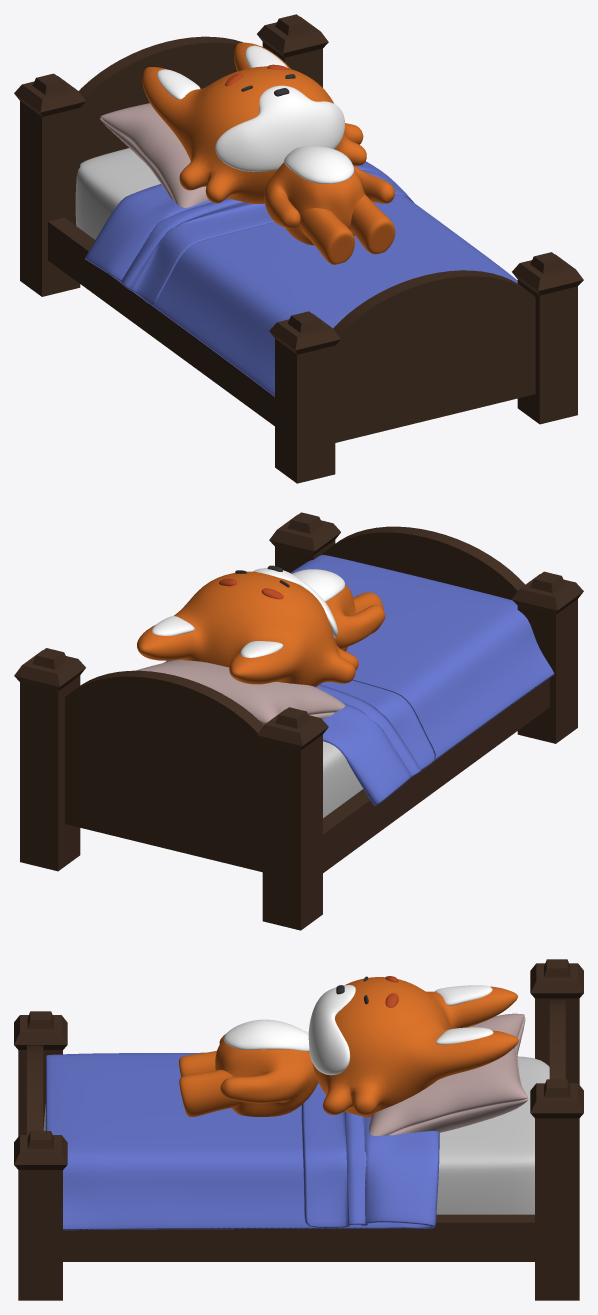
The model's file is bed.glb.
The picture shows the model from 3 angles, top to bottom: view 1: azimuth 30°, elevation 25°; view 2: azimuth 150°, elevation 25°; view 3: azimuth 270°, elevation 25°; orthographic projection.
Parts seen in each view (by area): view 1: Plane, Circle, Tete.001, Cube.001, Cube.003, Tete.002, Cube.002, Circle.001, Plane.001, Cube; view 2: Circle.001, Plane, Cube.003, Tete.001, Cube.001, Cube.002, Circle, Plane.001, Tete.002, Cube; view 3: Plane, Tete.001, Cube.002, Cube.003, Cube.001, Cube, Plane.001, Tete.002, Circle, Circle.001.
Part boxes in pixels (x1,y1,x2,y2): Plane: [85, 161, 517, 396]; Circle: [333, 270, 535, 442]; Tete.001: [142, 42, 395, 264]; Cube.001: [269, 252, 583, 483]; Cube.003: [14, 14, 328, 296]; Tete.002: [157, 45, 354, 183]; Cube.002: [48, 217, 274, 425]; Circle.001: [78, 36, 243, 163]; Plane.001: [100, 103, 208, 207]; Cube: [75, 148, 160, 239]; Circle.001: [65, 670, 263, 872]; Plane: [163, 555, 554, 805]; Cube.003: [14, 648, 328, 930]; Tete.001: [137, 571, 385, 687]; Cube.001: [269, 512, 583, 743]; Cube.002: [323, 678, 549, 872]; Circle: [323, 526, 525, 599]; Plane.001: [136, 659, 345, 724]; Tete.002: [151, 568, 345, 657]; Cube: [323, 741, 363, 817]; Plane: [45, 1052, 439, 1230]; Tete.001: [179, 977, 518, 1117]; Cube.002: [63, 1214, 534, 1261]; Cube.003: [530, 959, 583, 1300]; Cube.001: [14, 1011, 67, 1300]; Cube: [43, 1056, 549, 1214]; Plane.001: [369, 1013, 528, 1135]; Tete.002: [224, 985, 493, 1075]; Circle: [27, 1045, 43, 1134]; Circle.001: [549, 1000, 565, 1079].
Bounding box in the file's own units: 5.32 × 4.08 × 8.54.
